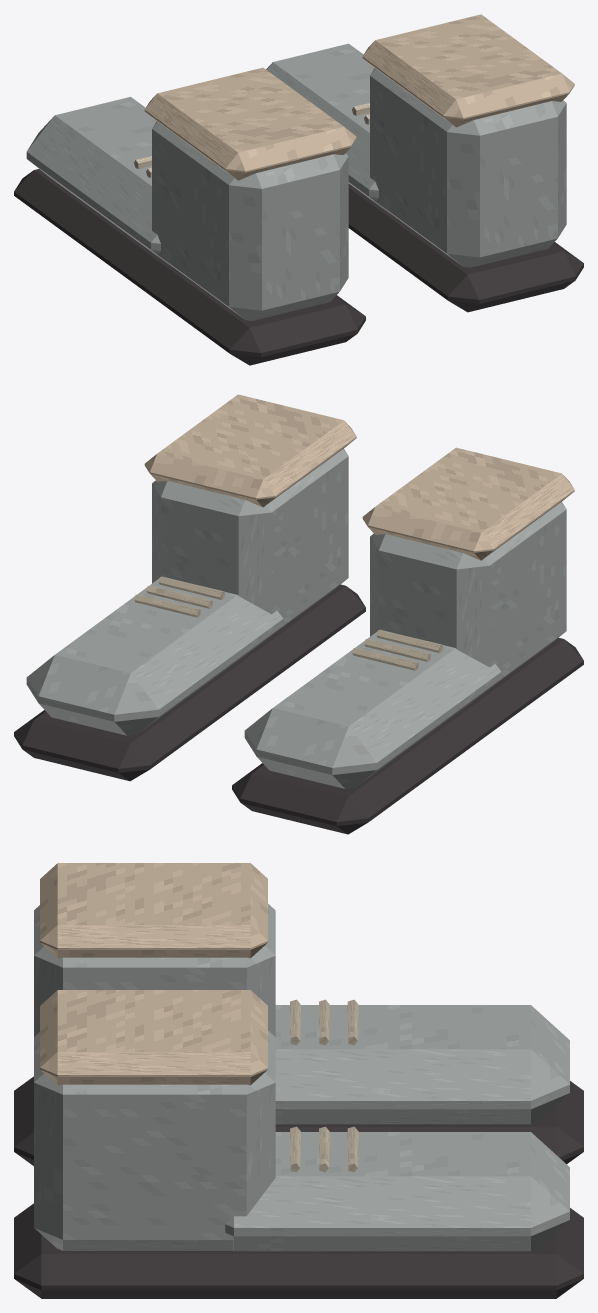
The model's file is boots_winter.glb.
The picture shows the model from 3 angles, top to bottom: view 1: azimuth 30°, elevation 25°; view 2: azimuth 150°, elevation 25°; view 3: azimuth 270°, elevation 25°; orthographic projection. The views are drawn at different scales.
Visible parts, largest first — view 1: block_shaft (×2), block_cuff trim (×2), block_shaped sole (×2), block_vamp and toe (×2); view 2: block_shaft (×2), block_vamp and toe (×2), block_shaped sole (×2), block_cuff trim (×2), block_lace (×6); view 3: block_vamp and toe (×2), block_shaft (×2), block_cuff trim (×2), block_shaped sole (×2).
Part boxes in pixels (bbox=[...]): block_shaft (×2): bbox=[152, 68, 566, 320]; block_cuff trim (×2): bbox=[144, 14, 574, 180]; block_shaped sole (×2): bbox=[14, 169, 583, 365]; block_vamp and toe (×2): bbox=[26, 43, 391, 267]; block_shaft (×2): bbox=[152, 448, 566, 690]; block_vamp and toe (×2): bbox=[26, 576, 501, 788]; block_shaped sole (×2): bbox=[14, 584, 583, 834]; block_cuff trim (×2): bbox=[144, 394, 574, 560]; block_lace (×6): bbox=[134, 576, 442, 670]; block_vamp and toe (×2): bbox=[225, 1005, 569, 1251]; block_shaft (×2): bbox=[34, 904, 275, 1250]; block_cuff trim (×2): bbox=[40, 863, 267, 1085]; block_shaped sole (×2): bbox=[14, 1076, 583, 1298].
Size of the model in its own units: 0.2575 by 0.1454 by 0.3006.
Materials: 1 (1 with a texture image).
